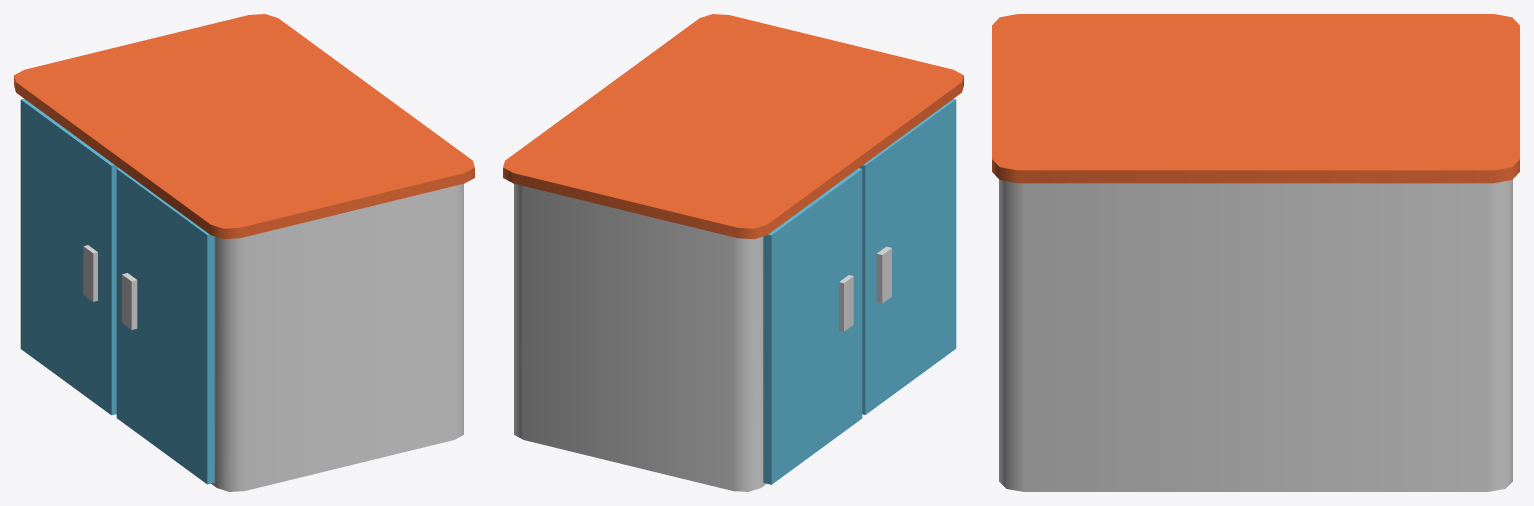
File: cabinet1.fbx
3 renders of one model, left to right at view 1: azimuth 30°, elevation 25°; view 2: azimuth 150°, elevation 25°; view 3: azimuth 270°, elevation 25°, orthographic. The views are drawn at different scales.
Visible parts, largest first — view 1: Cube.005; view 2: Cube.005; view 3: Cube.005.
Part boxes in pixels (x1,y1,x2,y2): Cube.005: (14, 14, 474, 491); Cube.005: (503, 14, 963, 491); Cube.005: (992, 14, 1519, 491).
Size of the model in its own units: 1.01 by 0.967 by 1.42.
